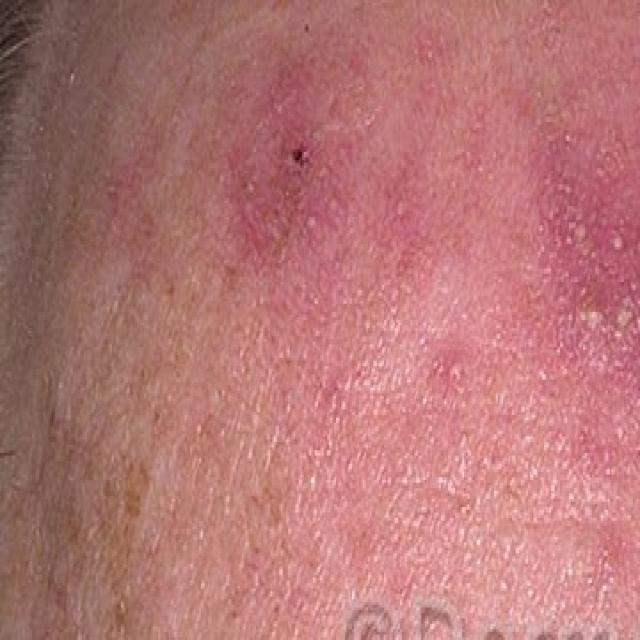Rosacea: (217, 90, 405, 338)
